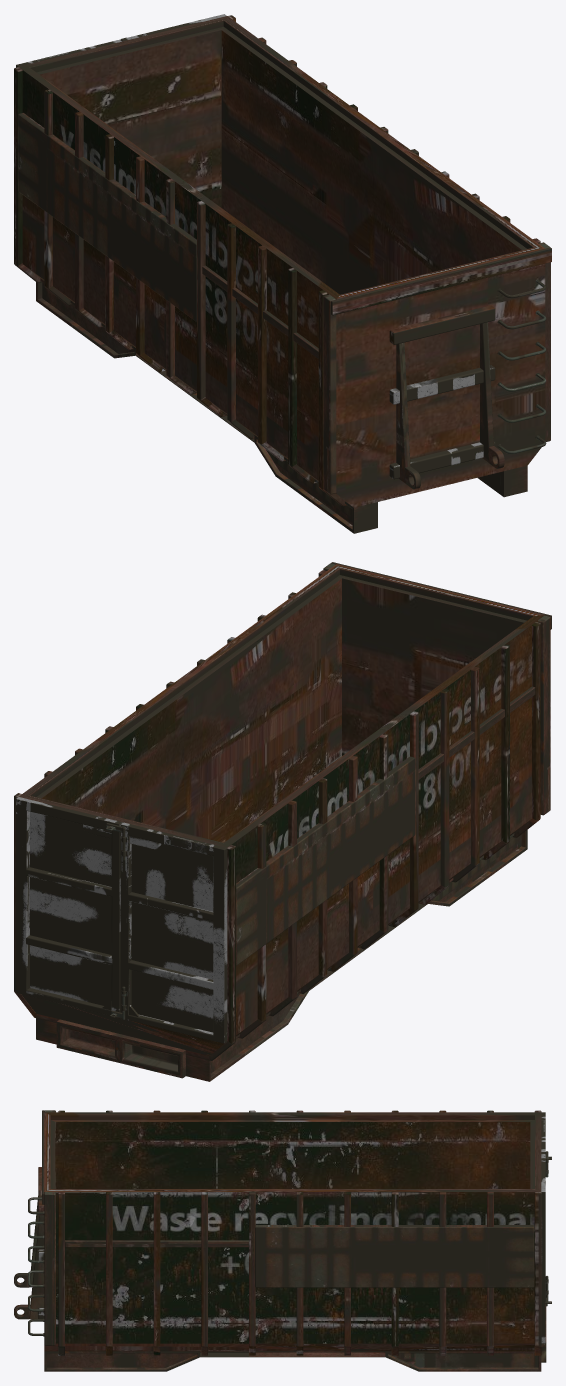
File: rolloff.glb
3 renders of one model, top to bottom at view 1: azimuth 30°, elevation 25°; view 2: azimuth 150°, elevation 25°; view 3: azimuth 270°, elevation 25°, orthographic. The views are drawn at different scales.
Visible parts, largest first — view 1: dock; view 2: dock; view 3: dock.
Boxes of the visible parts, x1,y1,x2,y2 form: dock: (14,14,551,533); dock: (14,562,551,1081); dock: (14,1110,551,1371).
Size of the model in its own units: 3.26 by 3.37 by 8.81.
4 materials, 4 textured.
